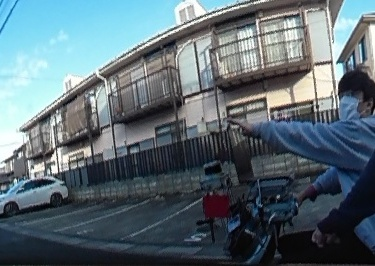person: (303, 68, 375, 261)
